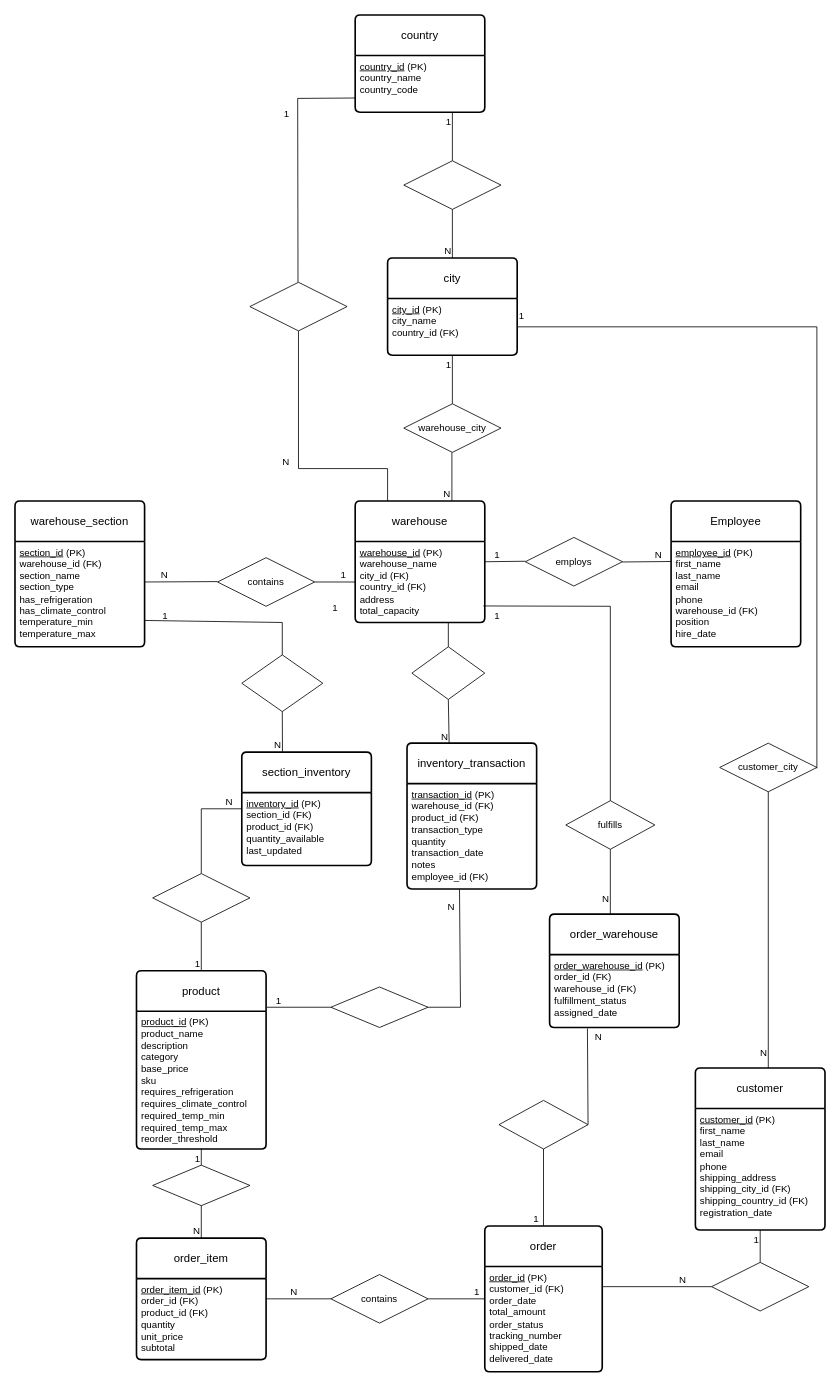
The diagram is 839 pixels wide and 1386 high, and some of its shapes have lost their labels. The centre of each missing label's shape, as x and y in pixels:
fulfilled_by: (543,1124)
has: (452,184)
included_in: (201,1185)
involves: (379,1006)
located_in: (298,306)
places: (760,1286)
records: (448,672)
stored_in: (201,897)
stores: (282,683)
